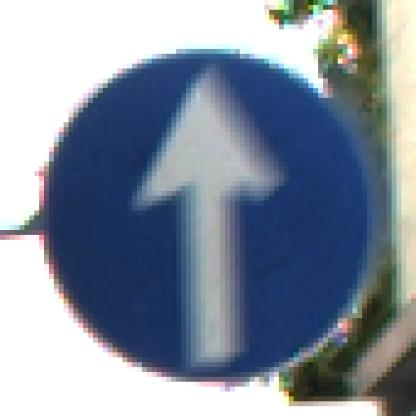AheadOnly: (35, 40, 383, 383)
